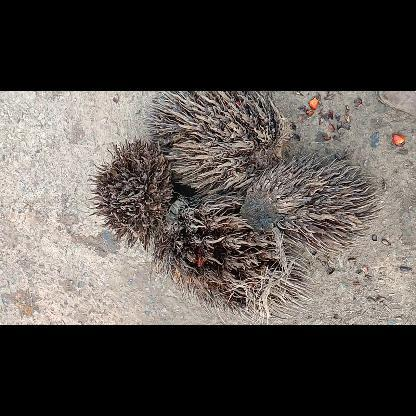Janjang kosong: (152, 194, 316, 324), (143, 91, 289, 197), (240, 152, 382, 256), (86, 135, 172, 249)
